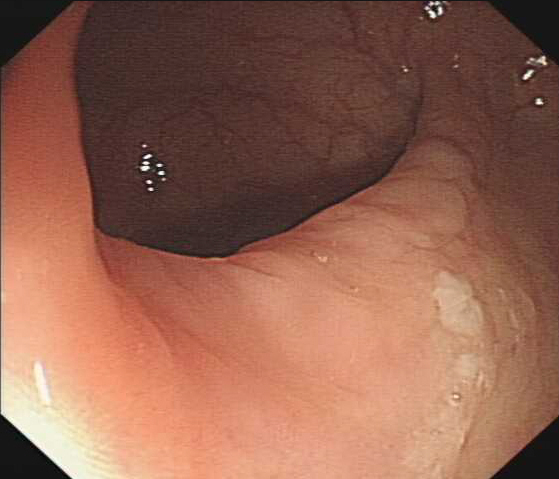others: (431, 266, 486, 343)
